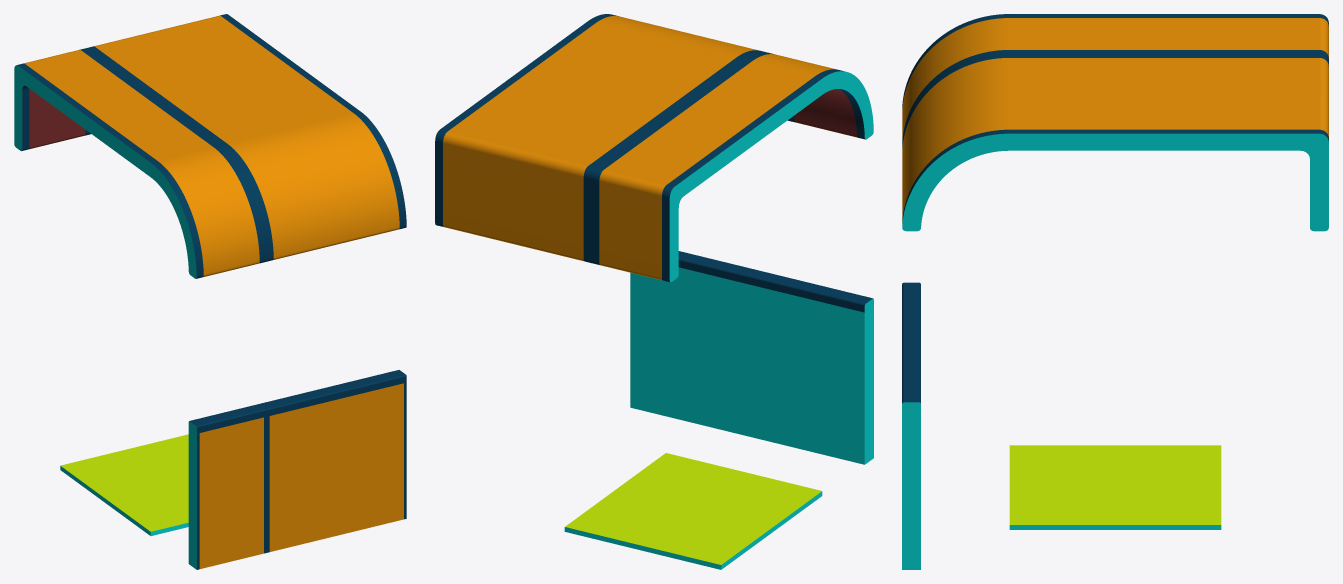
File: Wall_References.fbx
The picture shows the model from 3 angles, left to right: view 1: azimuth 30°, elevation 25°; view 2: azimuth 150°, elevation 25°; view 3: azimuth 270°, elevation 25°; orthographic projection. The views are drawn at different scales.
Visible parts, largest first — view 1: Wall_D, Wall_C, Wall_B, Wall_A, Wall_F, Wall_E; view 2: Wall_D, Wall_C, Wall_B, Wall_F, Wall_A, Wall_E; view 3: Wall_D, Wall_C, Wall_F, Wall_E, Wall_B, Wall_A.
Boxes of the visible parts, left/top/right/bottom form: Wall_D: left=87, top=14, right=406, bottom=261; Wall_C: left=14, top=48, right=266, bottom=278; Wall_B: left=260, top=370, right=406, bottom=552; Wall_A: left=188, top=404, right=266, bottom=569; Wall_F: left=60, top=434, right=188, bottom=535; Wall_E: left=60, top=448, right=188, bottom=535; Wall_D: left=435, top=14, right=765, bottom=263; Wall_C: left=591, top=52, right=873, bottom=282; Wall_B: left=630, top=251, right=794, bottom=445; Wall_F: left=564, top=453, right=822, bottom=569; Wall_A: left=786, top=279, right=873, bottom=464; Wall_E: left=643, top=472, right=821, bottom=566; Wall_D: left=902, top=54, right=1328, bottom=231; Wall_C: left=902, top=14, right=1328, bottom=143; Wall_F: left=1009, top=446, right=1221, bottom=529; Wall_E: left=1009, top=445, right=1221, bottom=484; Wall_B: left=902, top=322, right=920, bottom=569; Wall_A: left=902, top=282, right=920, bottom=323.
Bounding box in the file's own units: 150 × 255 × 226.
